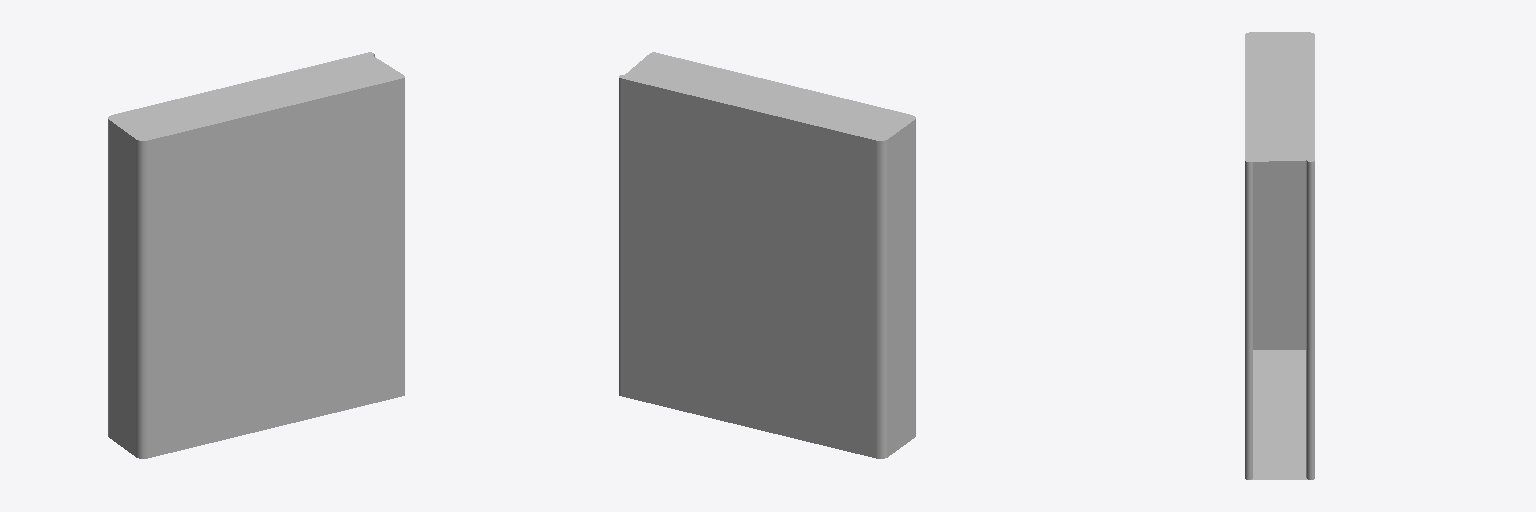
Rendered from books__17.obj.
3 views of the same model, side by side, from view 1: azimuth 30°, elevation 25°; view 2: azimuth 150°, elevation 25°; view 3: azimuth 270°, elevation 25° (orthographic).
Parts seen in each view (by area): view 1: grp17; view 2: grp17; view 3: grp17.
Part boxes in pixels (x1,y1,x2,y2): grp17: (108, 52, 404, 458); grp17: (619, 52, 915, 458); grp17: (1245, 32, 1314, 479).
Bounding box in the file's own units: 131 × 149 × 29.82.